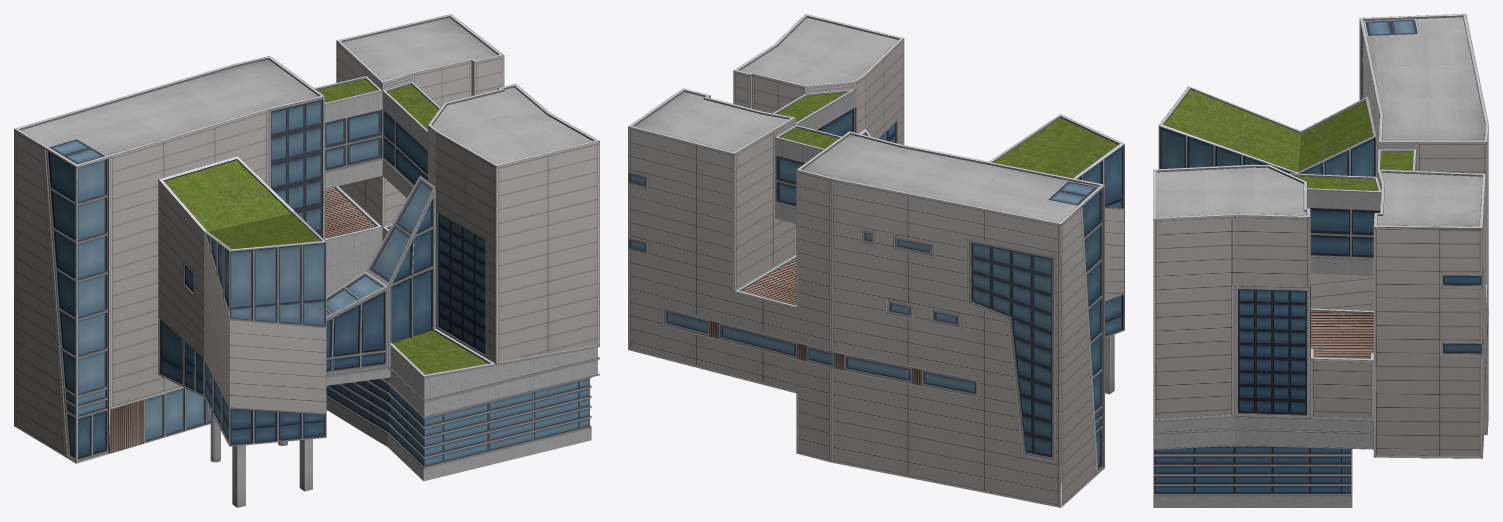
3 views of the same model, side by side, from view 1: azimuth 30°, elevation 25°; view 2: azimuth 150°, elevation 25°; view 3: azimuth 270°, elevation 25° (orthographic). The views are drawn at different scales.
Parts seen in each view (by area): view 1: MainBuilding; view 2: MainBuilding; view 3: MainBuilding.
Part boxes in pixels (x1,y1,x2,y2): MainBuilding: [14, 14, 599, 507]; MainBuilding: [628, 14, 1124, 507]; MainBuilding: [1153, 14, 1488, 507].
Size of the model in its own units: 2.35 by 1.5 by 1.56.
Materials: 1 (1 with a texture image).
